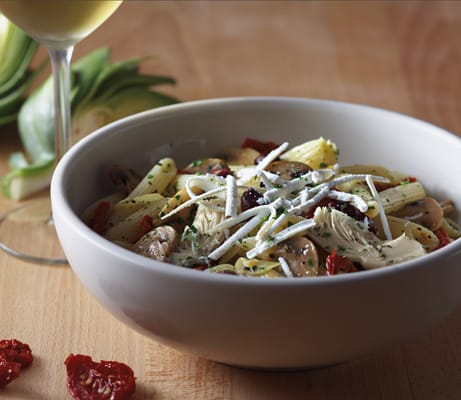sushi: (44, 95, 460, 372)
